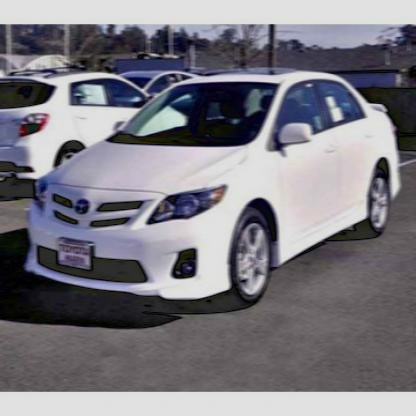Vehicle: (27, 70, 402, 308)
